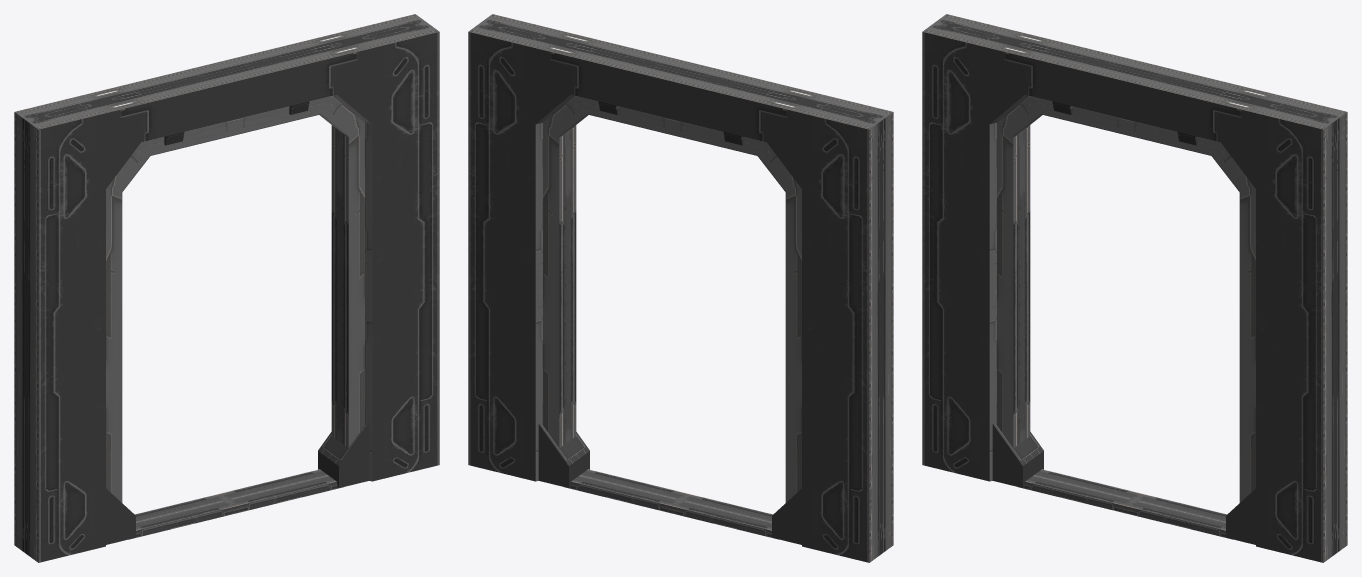
File: Door_Frame_SquareTall.glb
3 views of the same model, side by side, from view 1: azimuth 30°, elevation 25°; view 2: azimuth 150°, elevation 25°; view 3: azimuth 330°, elevation 25° (orthographic).
Parts seen in each view (by area): view 1: Door_Frame_SquareTall; view 2: Door_Frame_SquareTall; view 3: Door_Frame_SquareTall.
Part boxes in pixels (<box>): Door_Frame_SquareTall: <box>14,14,439,562</box>; Door_Frame_SquareTall: <box>468,14,893,562</box>; Door_Frame_SquareTall: <box>922,14,1347,562</box>.
Bounding box in the file's own units: 4.84 × 5.01 × 0.5067.
Materials: 1 (1 with a texture image).
